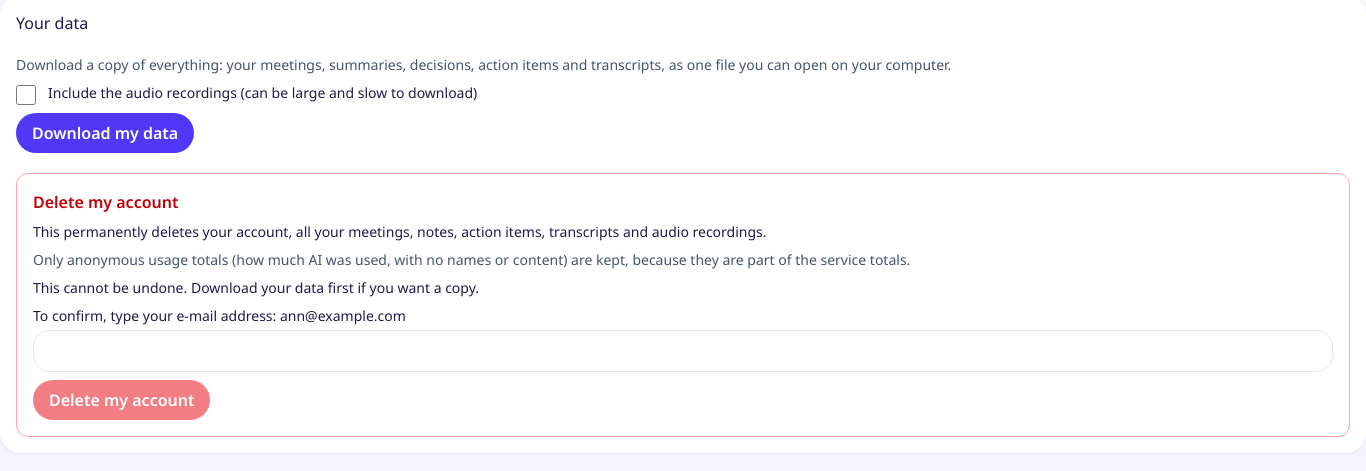
delete account › stays disabled until the exact e-mail is typed
Expected: the button "Delete my account" is disabled, [33,380,210,420]
In the field named "Type your e-mail to confirm": (683, 351) [33,330,1333,372], type "ann@exampl"
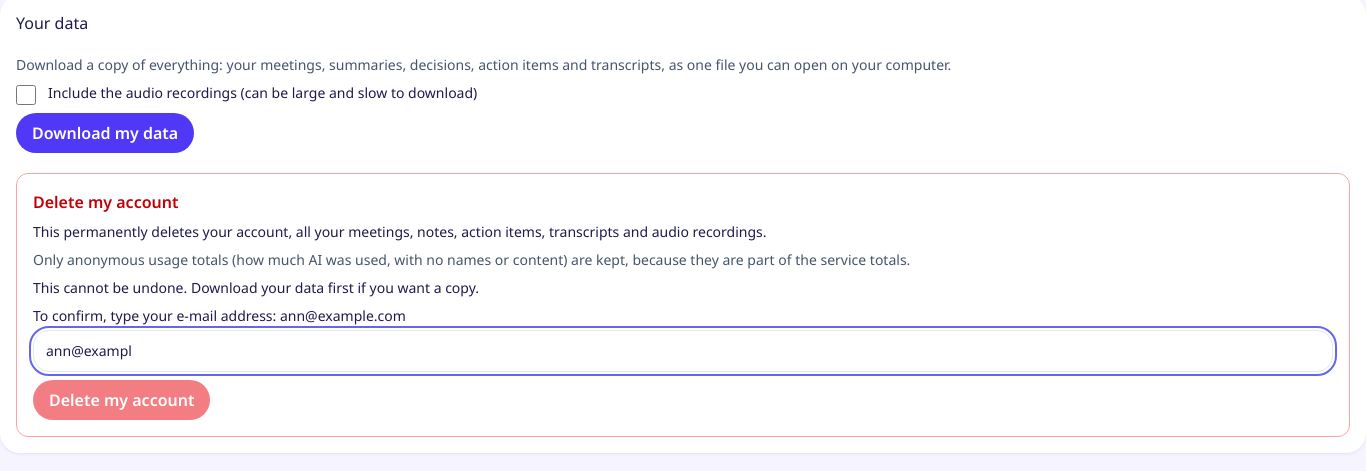
Expected: the button "Delete my account" is disabled, [33,380,210,420]
In the field named "Type your e-mail to confirm": (683, 351) [33,330,1333,372], type "e.com"
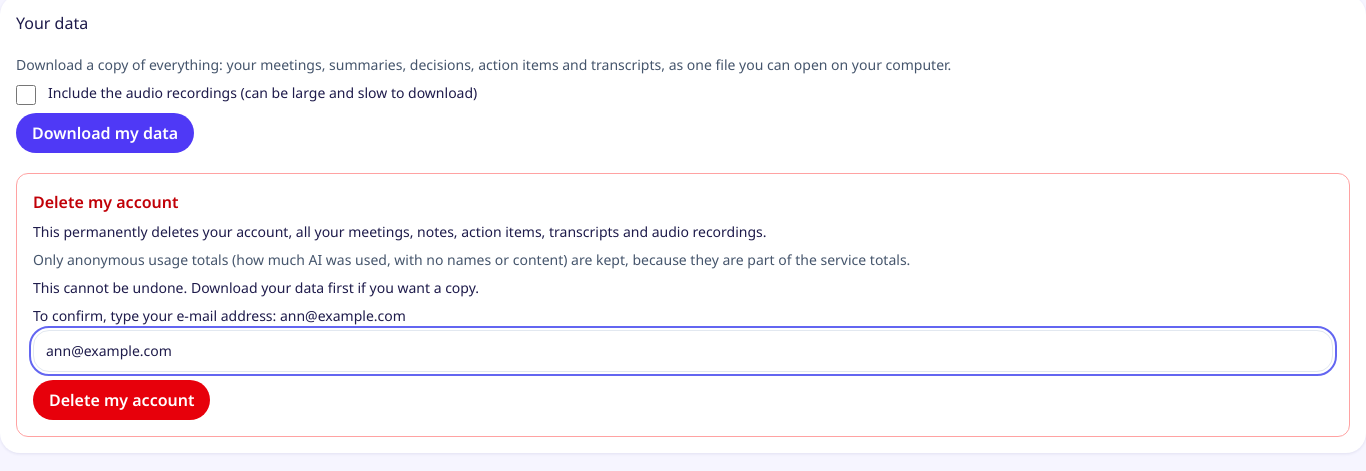
Expected: the button "Delete my account" is enabled, [33,380,210,420]
